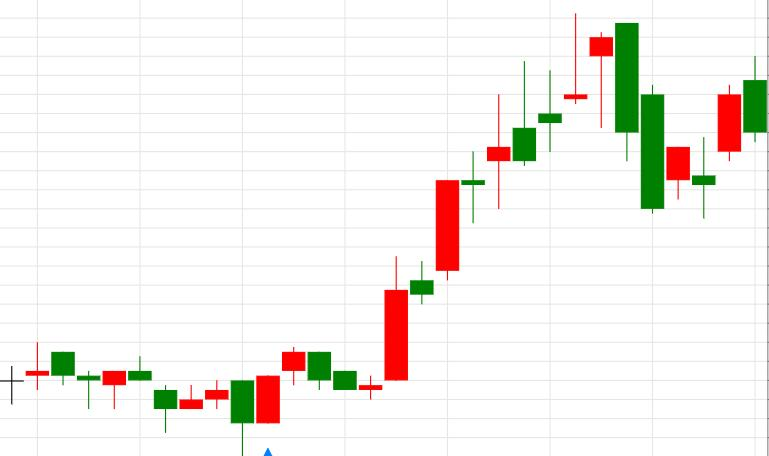bearish_engulfing_fall: (358, 15, 638, 400)
shooting_star_fall: (359, 62, 535, 401)
